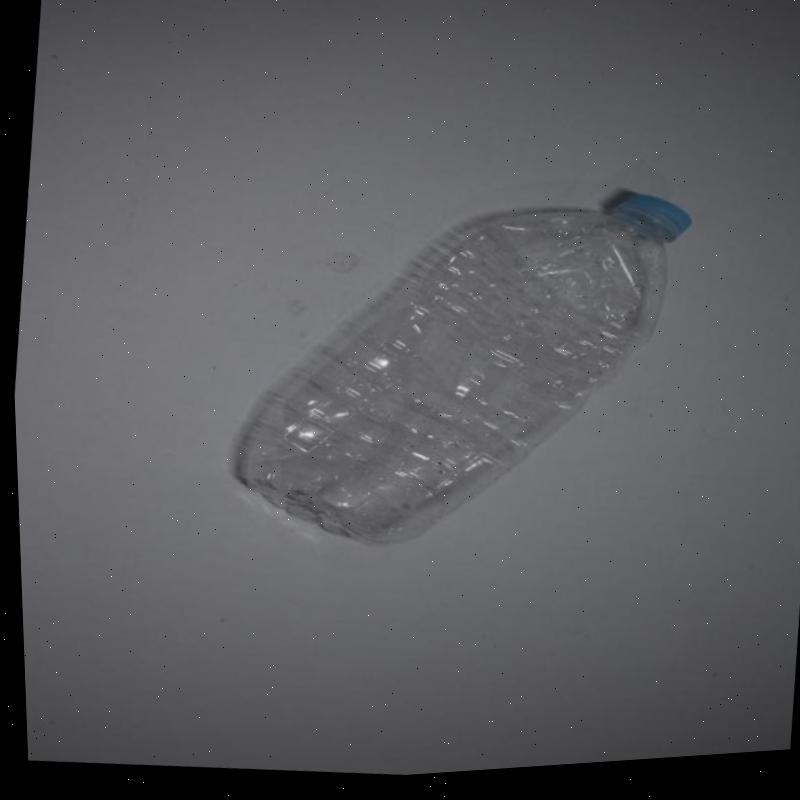botella: (211, 155, 701, 589)
